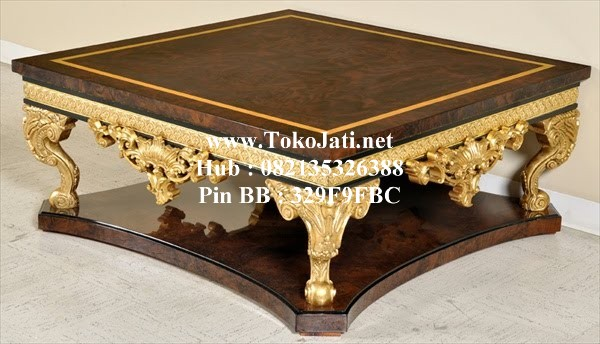Carving Table: (22, 31, 589, 326)
